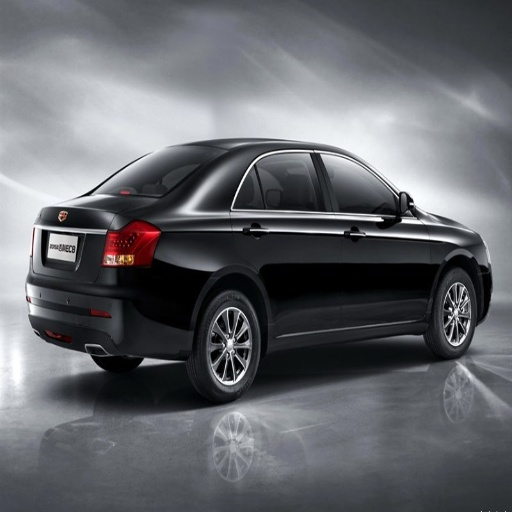back_bumper: (27, 269, 196, 361)
back_right_door: (233, 148, 342, 334)
